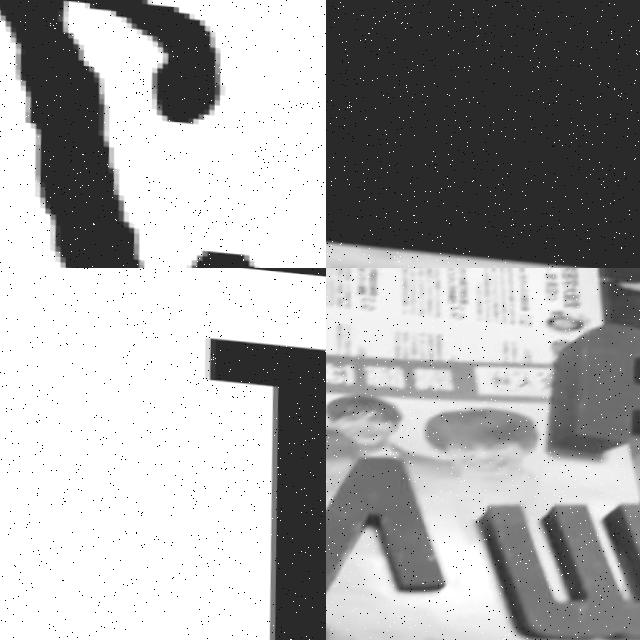A: (544, 306, 640, 455)
D: (0, 0, 298, 268)
L: (0, 300, 326, 640)
N: (326, 434, 426, 596)
W: (476, 478, 640, 638)
